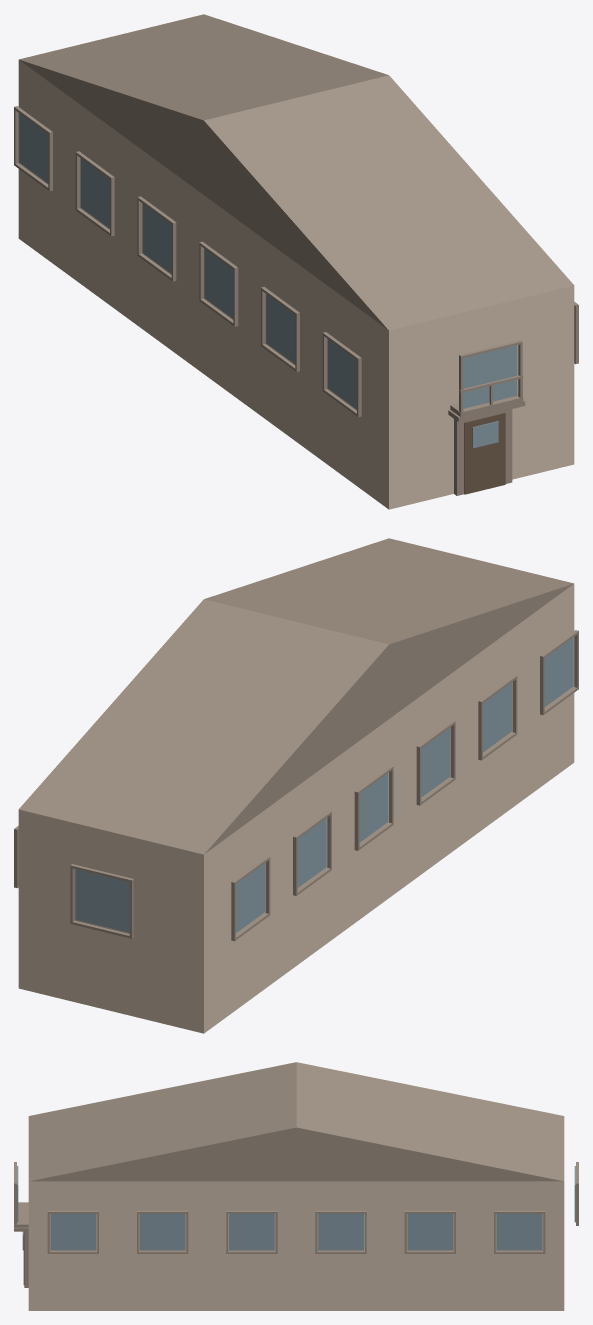
The model's file is residential_1x3_a.glb.
The picture shows the model from 3 angles, top to bottom: view 1: azimuth 30°, elevation 25°; view 2: azimuth 150°, elevation 25°; view 3: azimuth 270°, elevation 25°; orthographic projection. The views are drawn at different scales.
Parts seen in each view (by area): view 1: residential_1x3_a_0; view 2: residential_1x3_a_0; view 3: residential_1x3_a_0.
Part boxes in pixels (left/top/right/bottom): residential_1x3_a_0: left=14, top=14, right=578, bottom=509; residential_1x3_a_0: left=14, top=538, right=578, bottom=1033; residential_1x3_a_0: left=14, top=1062, right=578, bottom=1310.
Size of the model in its own units: 7.74 by 8.5 by 23.74.
